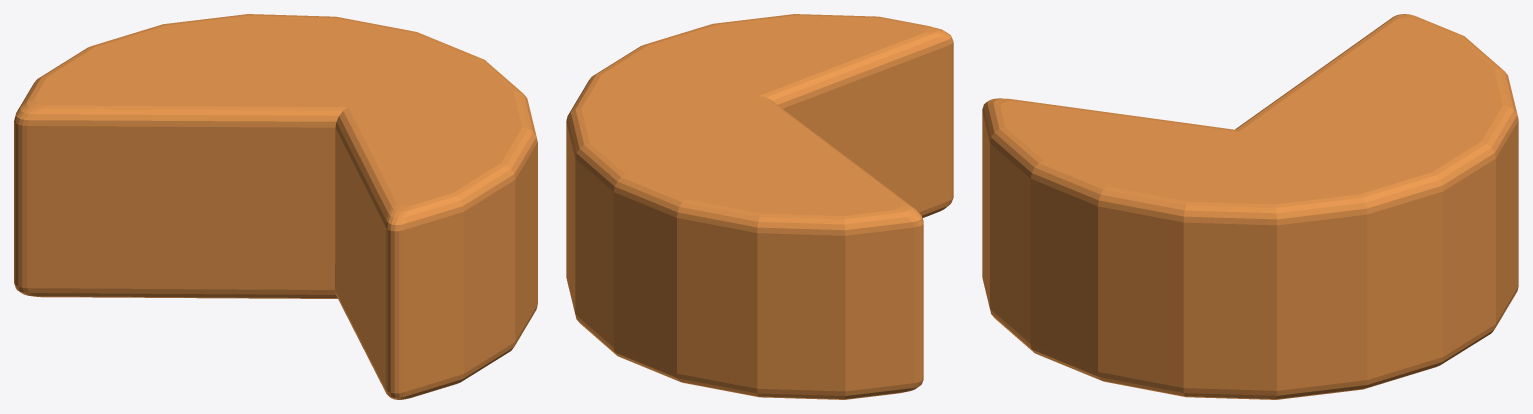
File: Cheese_1.fbx
3 views of the same model, side by side, from view 1: azimuth 30°, elevation 25°; view 2: azimuth 150°, elevation 25°; view 3: azimuth 270°, elevation 25° (orthographic). The views are drawn at different scales.
Visible parts, largest first — view 1: Cheese_1; view 2: Cheese_1; view 3: Cheese_1.
Boxes of the visible parts, bbox=[...] form: Cheese_1: bbox=[14, 14, 537, 399]; Cheese_1: bbox=[566, 14, 953, 399]; Cheese_1: bbox=[982, 14, 1518, 399].
Bounding box in the file's own units: 33.6 × 14.87 × 37.25.
